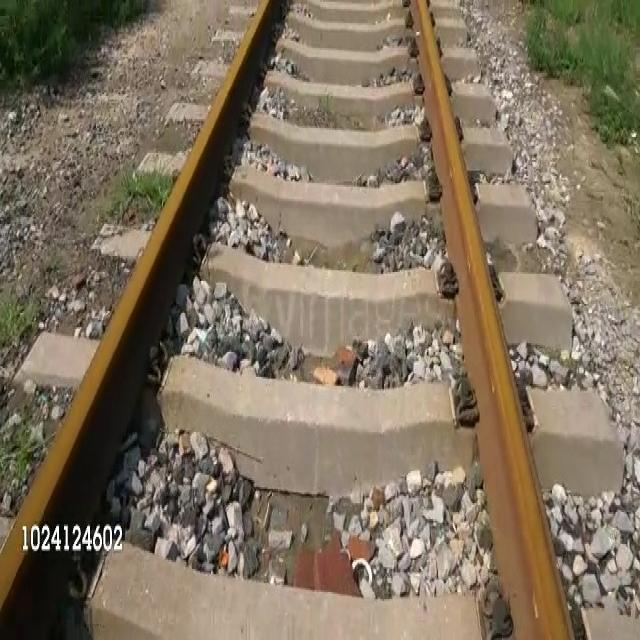Plant: (527, 26, 639, 142), (0, 0, 151, 82), (531, 0, 639, 38), (0, 425, 42, 480), (122, 170, 179, 205), (1, 290, 29, 341)
